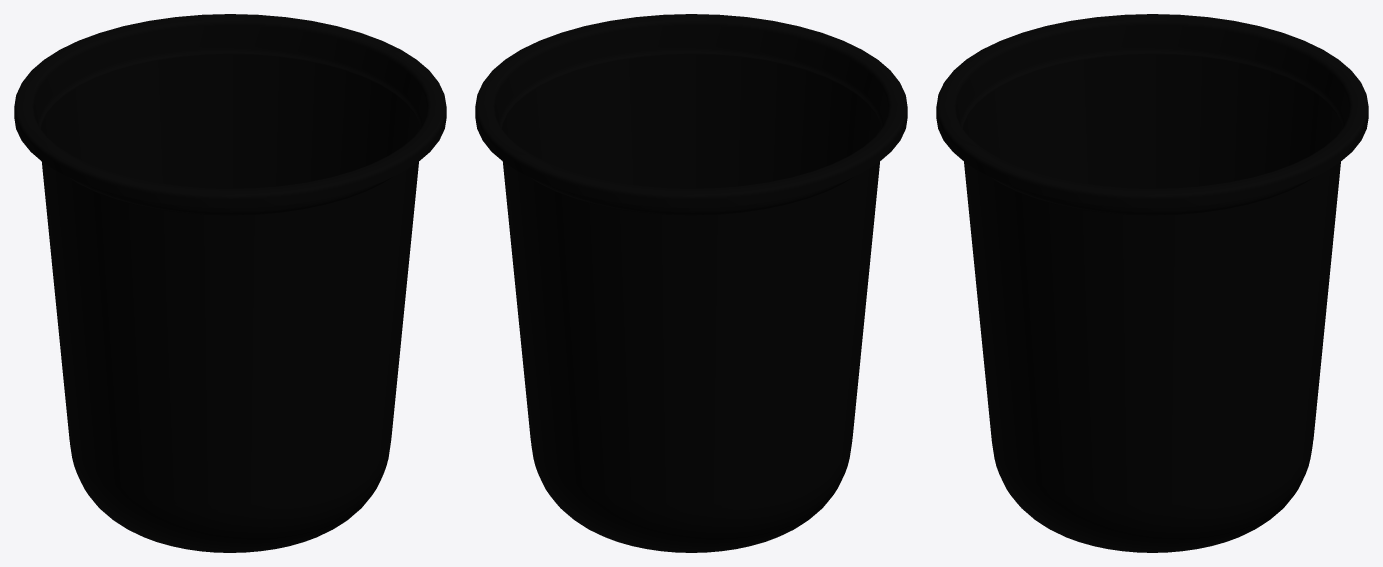
The picture shows the model from 3 angles, left to right: view 1: azimuth 30°, elevation 25°; view 2: azimuth 150°, elevation 25°; view 3: azimuth 270°, elevation 25°; orthographic projection.
Parts seen in each view (by area): view 1: models; view 2: models; view 3: models.
Part boxes in pixels (<box>): models: <box>14,14,446,552</box>; models: <box>475,14,907,552</box>; models: <box>936,14,1368,552</box>.
Bounding box in the file's own units: 0.092 × 0.0942 × 0.092.
1 material, 1 textured.
